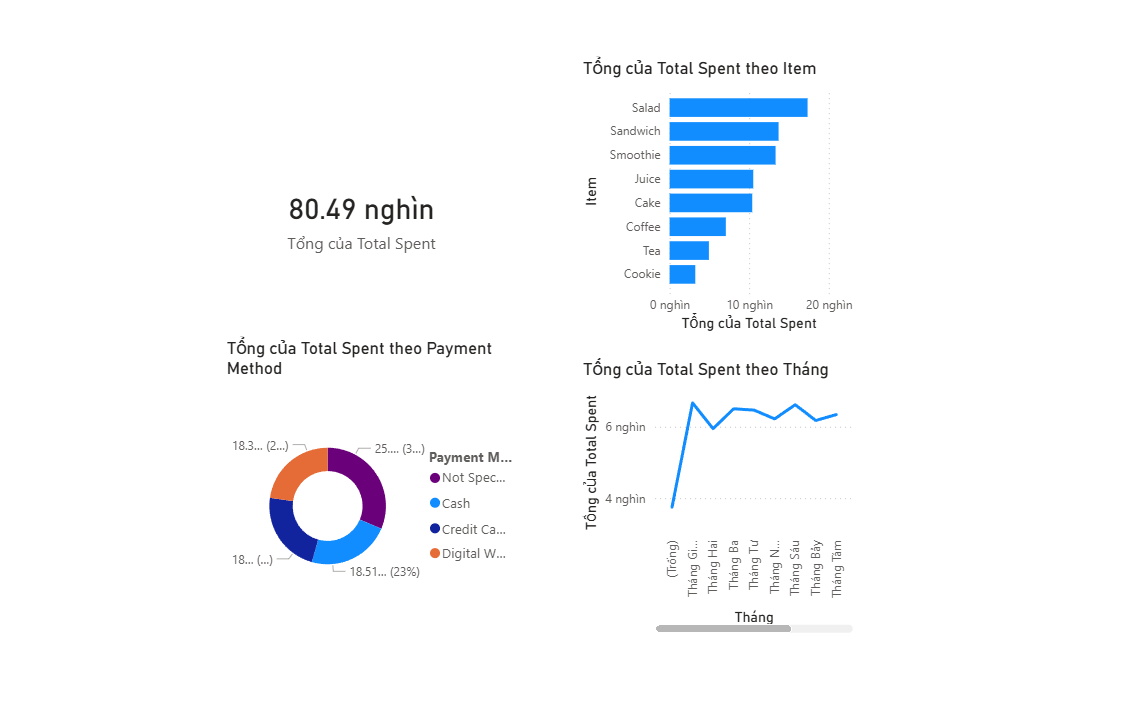

Layout of this report page (visuals, bound fields, positions):
{"tool":"powerbi","page":{"name":"Trang 1","canvas":[1280,720],"ordinal":0},"visuals":[{"type":"clusteredBarChart","fields":{"Category":["clean_cafe_sales.Item"],"Y":["Sum(clean_cafe_sales.Total Spent)"]},"box":[590.1,59,279.9,279.9],"z":0},{"type":"card","fields":{"Values":["Sum(clean_cafe_sales.Total Spent)"]},"box":[233.3,79.6,279.9,279.9],"z":1},{"type":"donutChart","fields":{"Category":["clean_cafe_sales.Payment Method"],"Y":["Sum(clean_cafe_sales.Total Spent)"]},"box":[233.3,338.9,299.1,300.5],"z":2},{"type":"lineChart","fields":{"Category":["clean_cafe_sales.Transaction Date.Biến động.Phân cấp ngày tháng.Tháng"],"Y":["Sum(clean_cafe_sales.Total Spent)"]},"box":[590.1,359.5,279.9,279.9],"z":3}]}

Visuals, with their boxes on the page's 1280x720 design canvas (x1, y1, x2, y2). These are canvas units, not pixel positions in the 1137x709 screenshot, which may show the page scaled, cropped or inside an application window:
clusteredBarChart - clean_cafe_sales.Item x Sum(clean_cafe_sales.Total Spent): [left=590, top=59, right=870, bottom=339]
card - Sum(clean_cafe_sales.Total Spent): [left=233, top=80, right=513, bottom=360]
donutChart - clean_cafe_sales.Payment Method x Sum(clean_cafe_sales.Total Spent): [left=233, top=339, right=532, bottom=639]
lineChart - clean_cafe_sales.Transaction Date.Biến động.Phân cấp ngày tháng.Tháng x Sum(clean_cafe_sales.Total Spent): [left=590, top=360, right=870, bottom=639]
